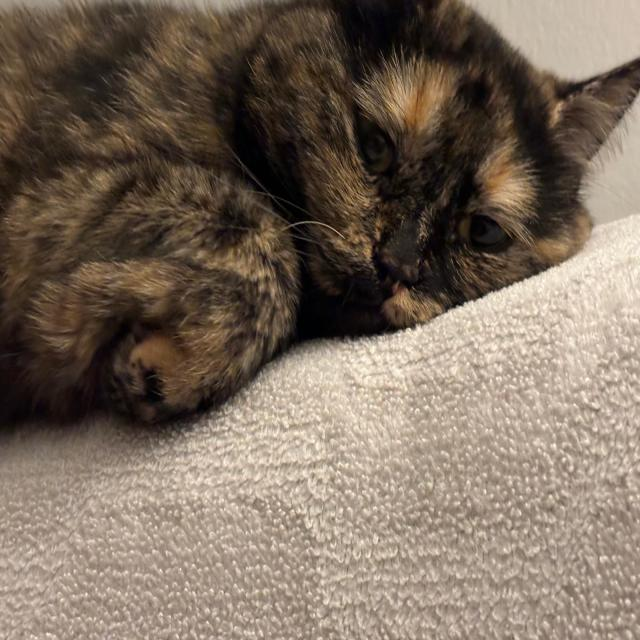authorized: (0, 0, 639, 429)
